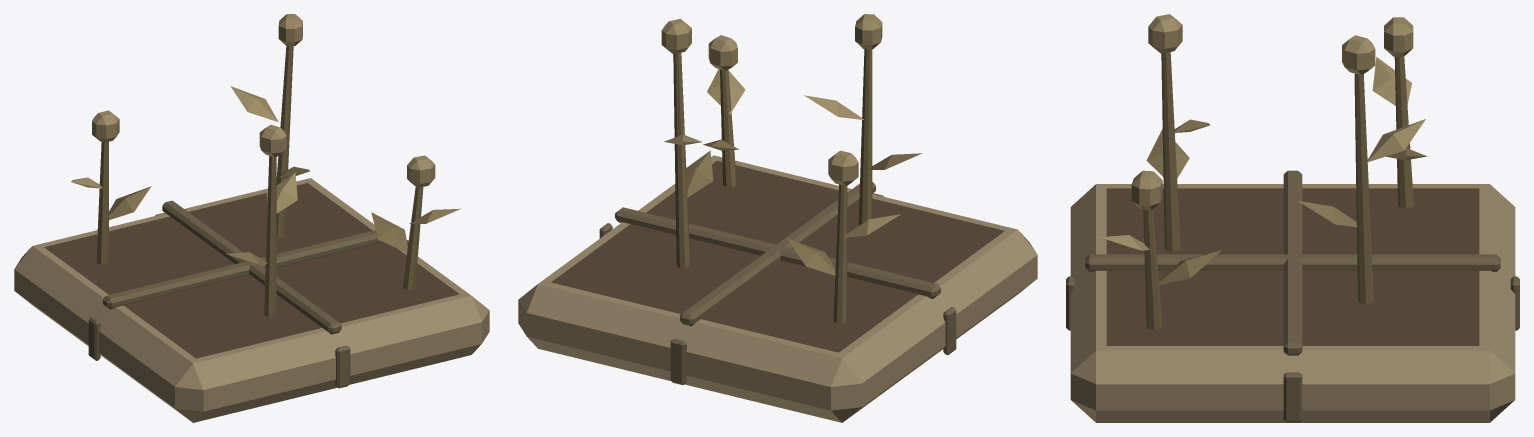
Rendered from flowers_1_packed_autumn.glb.
The picture shows the model from 3 angles, left to right: view 1: azimuth 30°, elevation 25°; view 2: azimuth 150°, elevation 25°; view 3: azimuth 270°, elevation 25°; orthographic projection. The views are drawn at different scales.
Parts seen in each view (by area): view 1: flowers_1_packed_autumn; view 2: flowers_1_packed_autumn; view 3: flowers_1_packed_autumn.
Boxes of the visible parts, x1,y1,x2,y2 form: flowers_1_packed_autumn: (14,14,489,422); flowers_1_packed_autumn: (518,14,1037,422); flowers_1_packed_autumn: (1066,14,1519,422).
Bounding box in the file's own units: 1.25 × 1.03 × 1.25.
